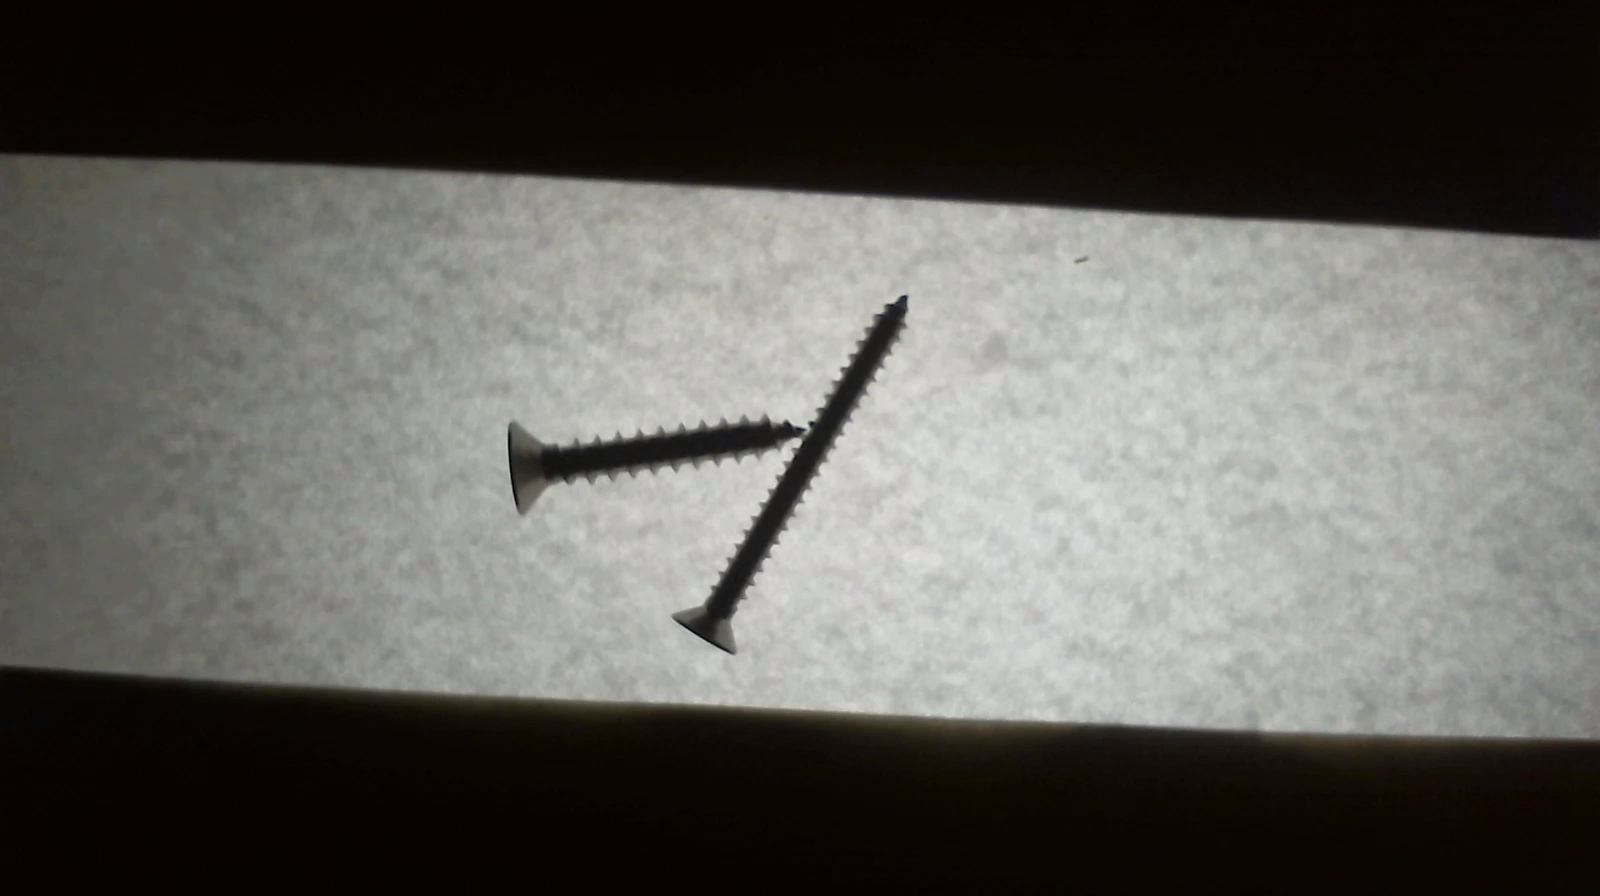S001: (496, 410, 816, 526)
S002: (660, 277, 932, 664)
